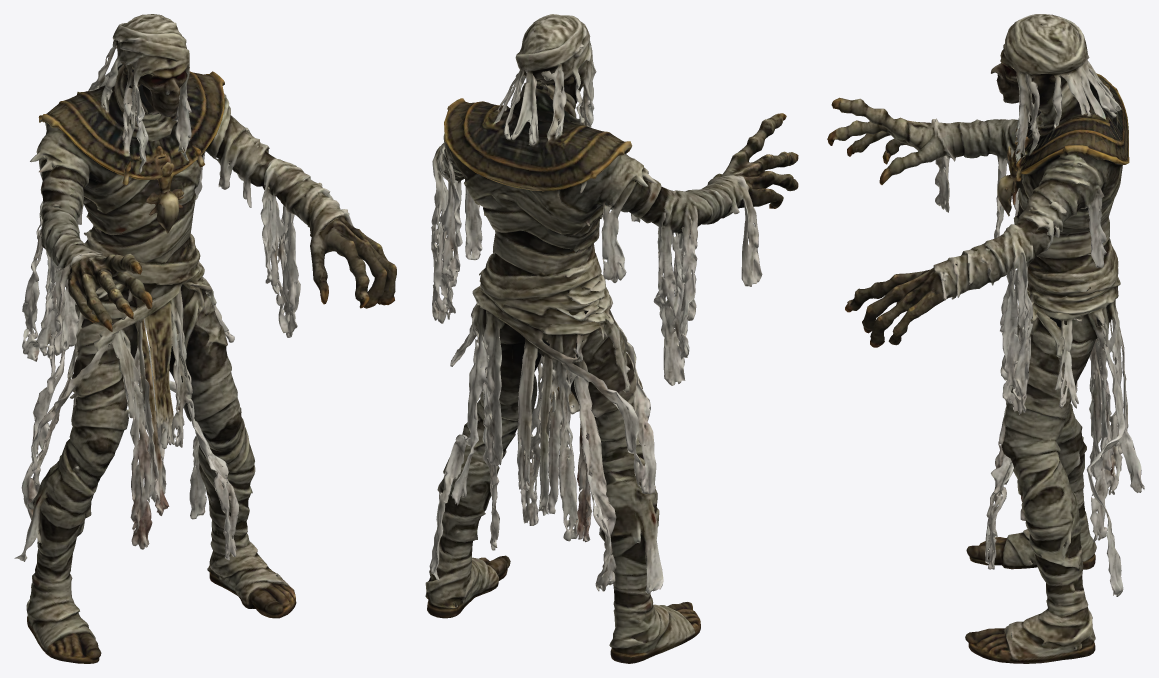
File: мумия.glb
3 views of the same model, side by side, from view 1: azimuth 30°, elevation 25°; view 2: azimuth 150°, elevation 25°; view 3: azimuth 270°, elevation 25° (orthographic). The views are drawn at different scales.
Parts seen in each view (by area): view 1: geometry_0; view 2: geometry_0; view 3: geometry_0.
Part boxes in pixels (box(x1,y1,x2,y2)): geometry_0: box(14, 14, 396, 663); geometry_0: box(425, 14, 798, 663); geometry_0: box(827, 14, 1144, 663).
Size of the model in its own units: 0.5589 by 1 by 0.4888.
Materials: 1 (1 with a texture image).
